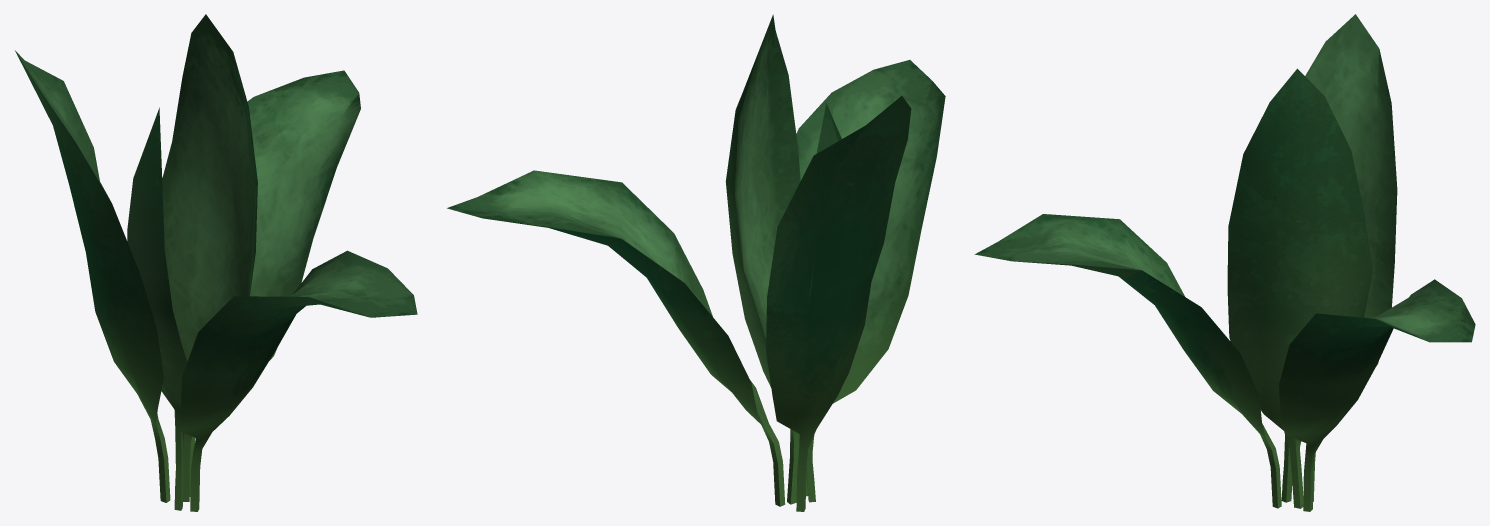
Rendered from leaves2.fbx.
3 views of the same model, side by side, from view 1: azimuth 30°, elevation 25°; view 2: azimuth 150°, elevation 25°; view 3: azimuth 270°, elevation 25° (orthographic). The views are drawn at different scales.
Visible parts, largest first — view 1: Cube.001; view 2: Cube.001; view 3: Cube.001.
Boxes of the visible parts, bbox=[...] form: Cube.001: bbox=[15, 14, 417, 511]; Cube.001: bbox=[447, 14, 945, 511]; Cube.001: bbox=[974, 14, 1475, 511].
Size of the model in its own units: 205 by 241 by 245.
1 material, 1 textured.
